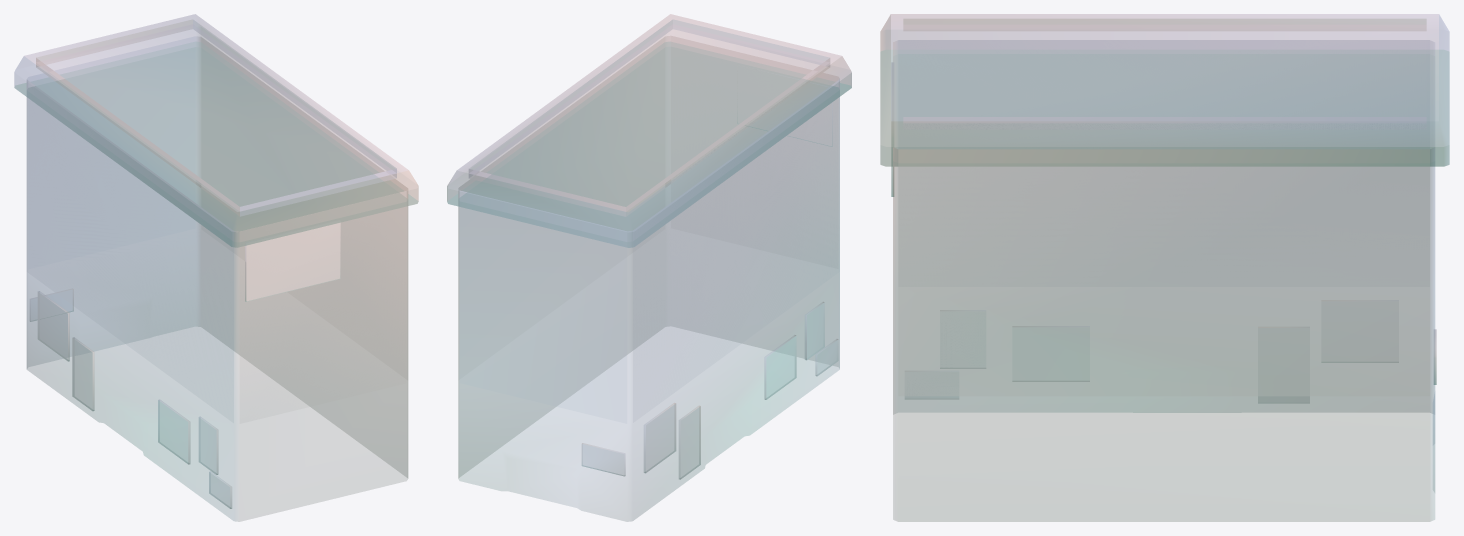
Rendered from CEN_F0CF.preview.glb.
3 views of the same model, side by side, from view 1: azimuth 30°, elevation 25°; view 2: azimuth 150°, elevation 25°; view 3: azimuth 270°, elevation 25° (orthographic). The views are drawn at different scales.
Visible parts, largest first — view 1: obj_10d0, obj_df0, obj_16a0, obj_13f0, obj_6c0, obj_2220, obj_2730, obj_9f0; view 2: obj_10d0, obj_df0, obj_16a0, obj_13f0, obj_6c0, obj_2220, obj_2730, obj_9f0; view 3: obj_10d0, obj_df0, obj_16a0, obj_13f0, obj_6c0, obj_9f0.
Part boxes in pixels (x1,y1,x2,y2): obj_10d0: (27,37,407,423); obj_df0: (26,229,408,521); obj_16a0: (15,24,417,246); obj_13f0: (28,81,406,379); obj_6c0: (14,14,418,247); obj_2220: (30,223,340,508); obj_2730: (38,223,339,507); obj_9f0: (74,297,153,452); obj_10d0: (458,36,839,423); obj_df0: (458,229,839,521); obj_16a0: (448,24,850,247); obj_13f0: (459,81,838,379); obj_6c0: (447,14,851,247); obj_2220: (582,302,838,479); obj_2730: (582,303,837,478); obj_9f0: (501,405,749,509); obj_10d0: (893,40,1435,395); obj_df0: (893,287,1434,521); obj_16a0: (881,25,1448,165); obj_13f0: (898,167,1429,286); obj_6c0: (880,14,1449,166); obj_9f0: (1130,373,1434,491).
Bounding box in the file's own units: 61.63 × 97.92 × 127.
